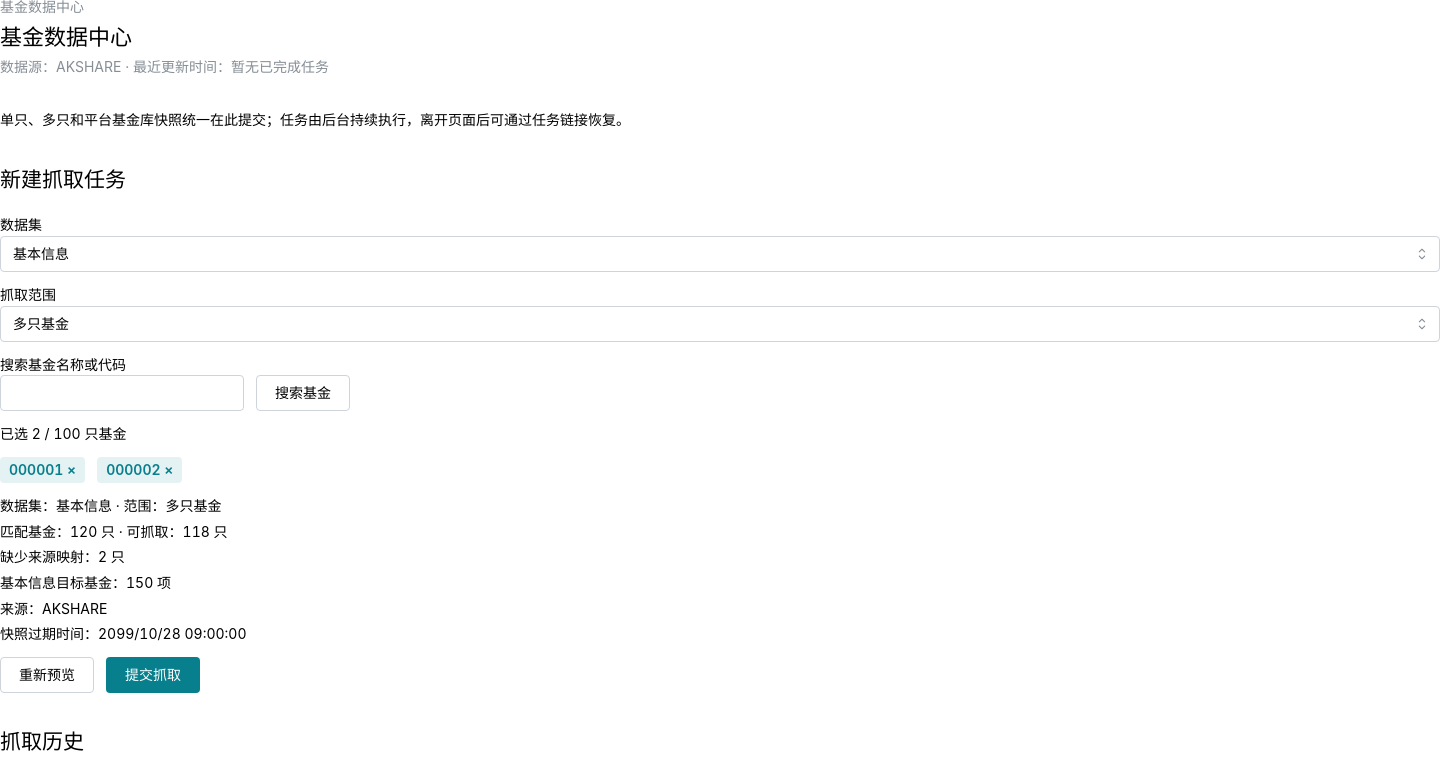
Scenario: fund data center › deduplicates selected IDs and requires 2–100 funds
The image size is (1440, 774).
Expected: the text "缺少来源映射：2 只" is shown, [0,548,125,565]
Click the button named "移除基金 000002" at (140, 470), box [97,457,182,483]
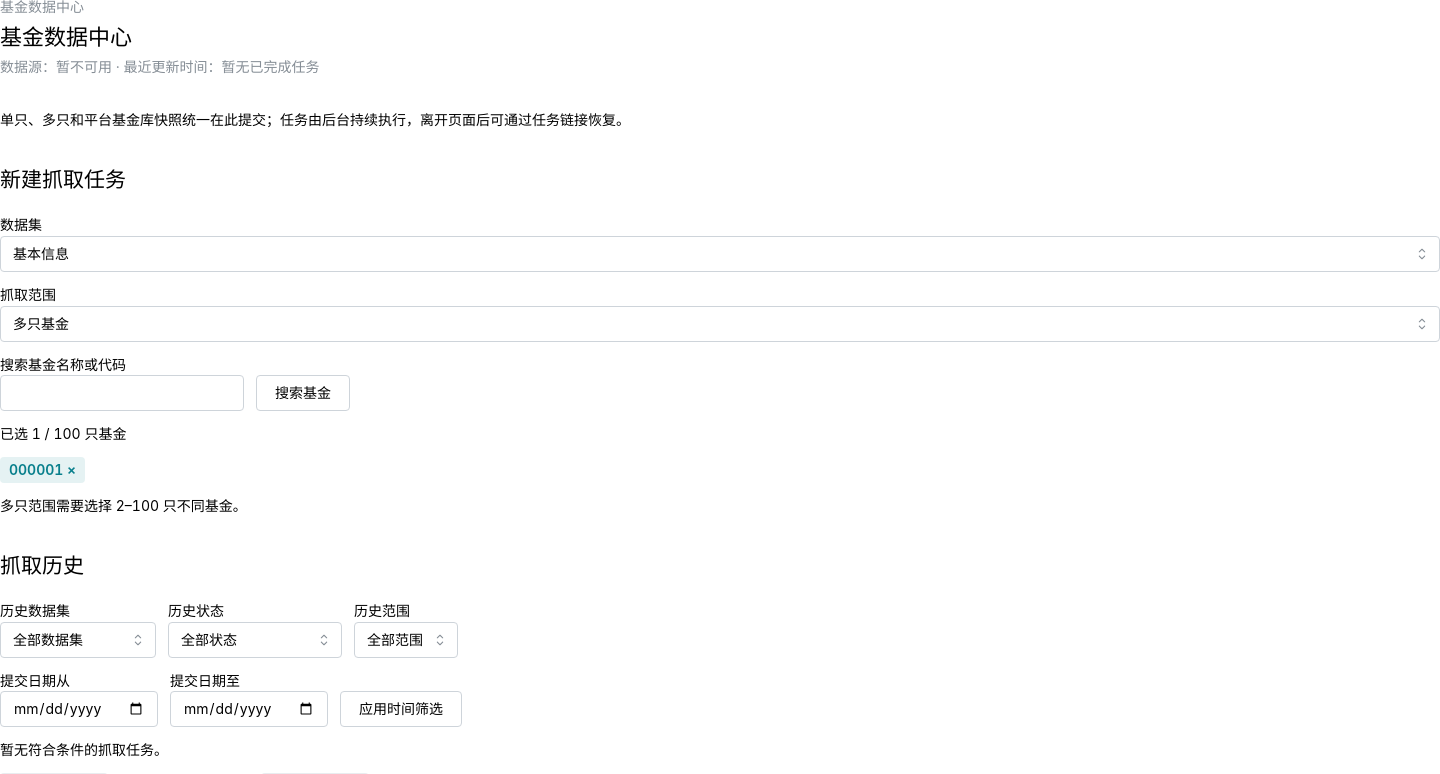
Now the text "多只范围需要选择 2–100 只不同基金。" is shown, box [0,497,247,514]
Now the button "提交抓取" is gone
